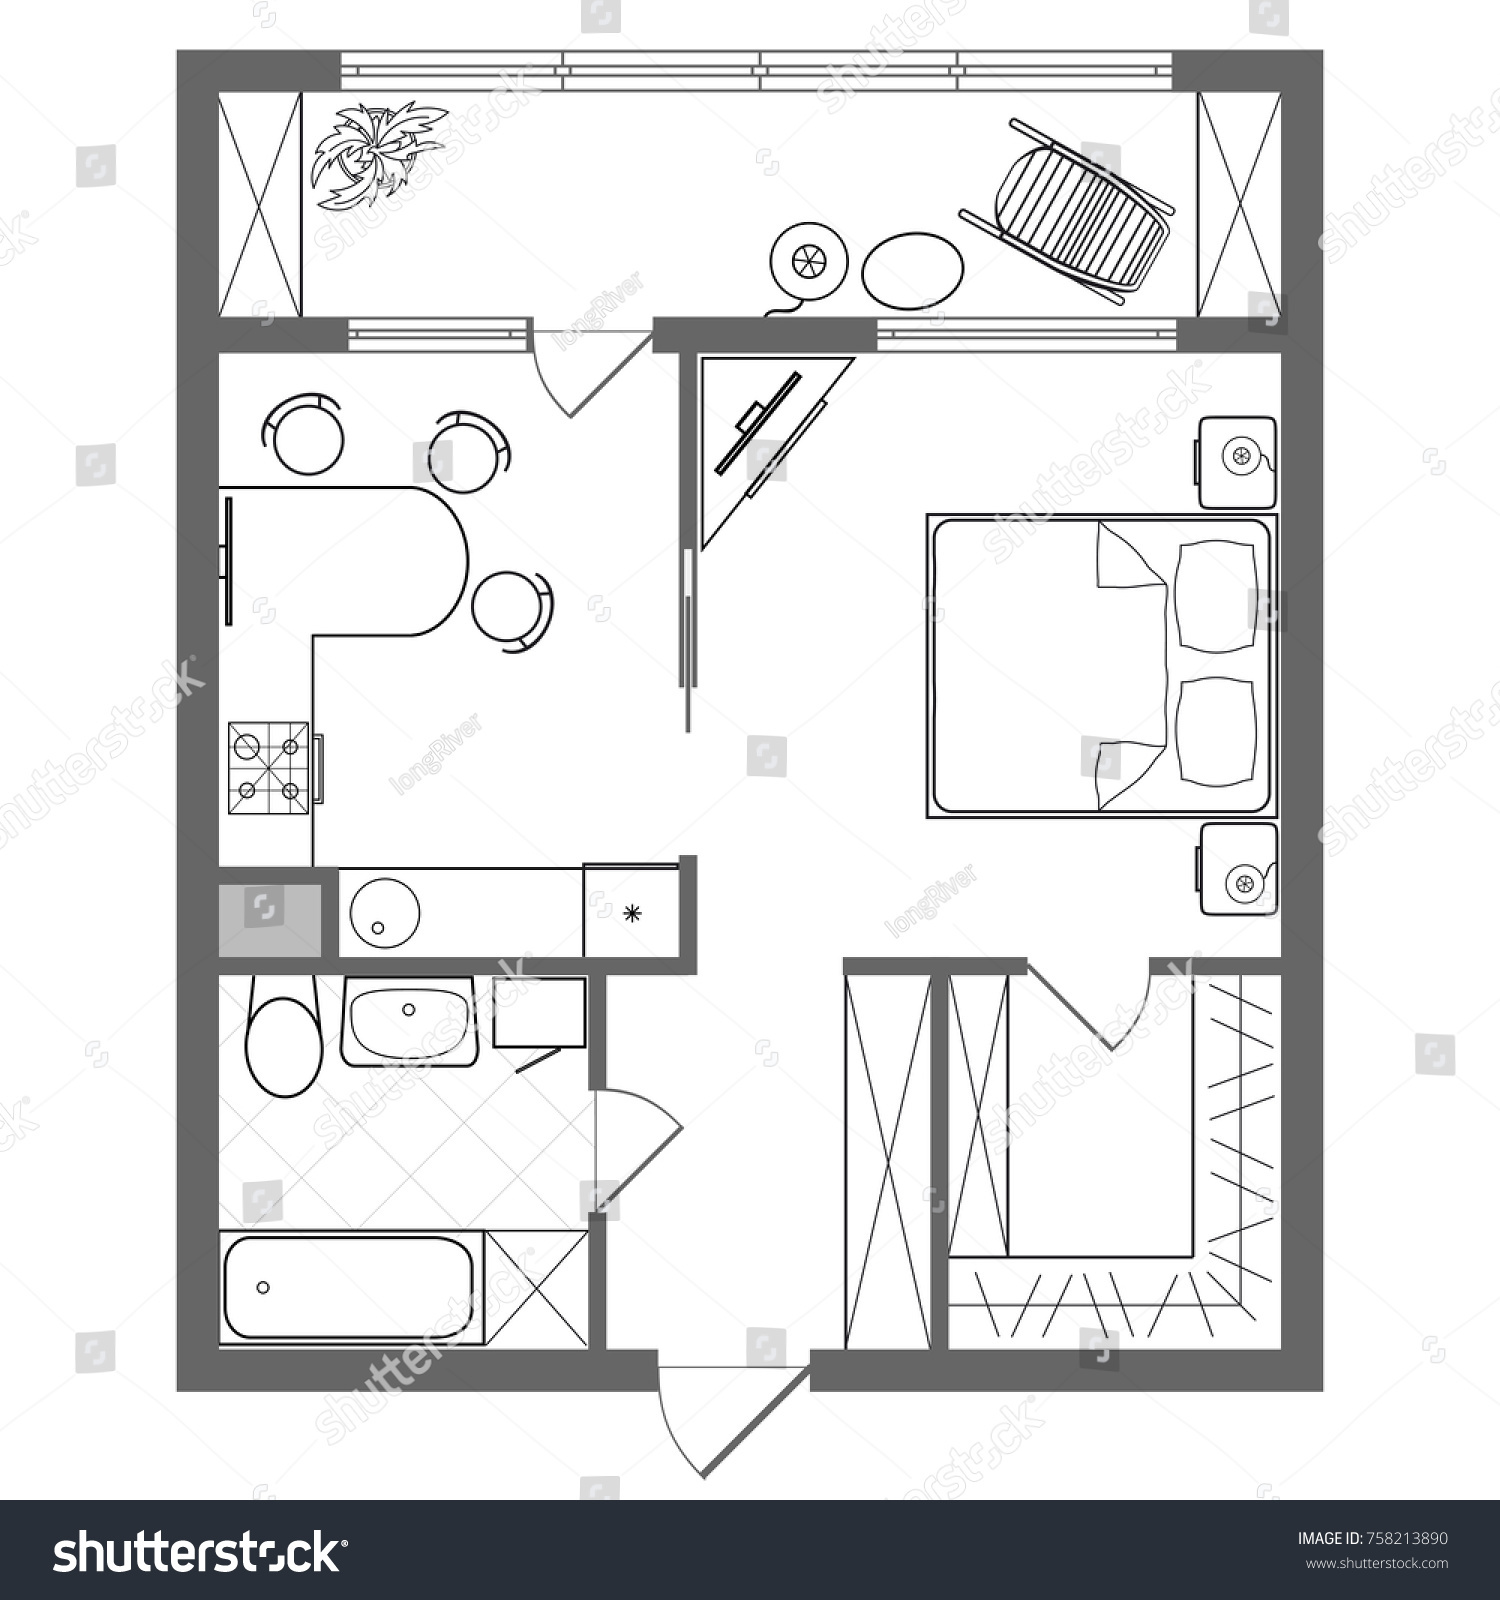room: (680, 316, 1320, 983), (171, 312, 698, 976), (175, 953, 616, 1391), (923, 959, 1327, 1397)
